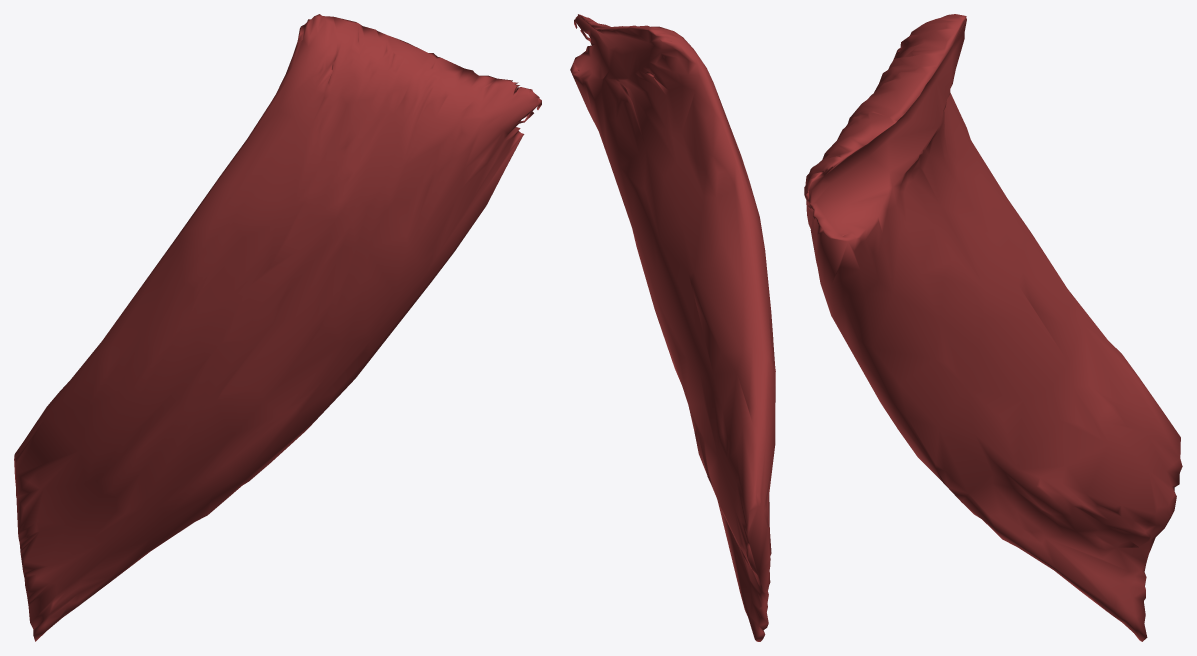
File: pectineus-muscle-r.glb
3 views of the same model, side by side, from view 1: azimuth 30°, elevation 25°; view 2: azimuth 150°, elevation 25°; view 3: azimuth 270°, elevation 25° (orthographic). The views are drawn at different scales.
Visible parts, largest first — view 1: Pectineus muscle.r; view 2: Pectineus muscle.r; view 3: Pectineus muscle.r.
Part boxes in pixels (x1=…): Pectineus muscle.r: x1=14, y1=14, x2=541, y2=641; Pectineus muscle.r: x1=570, y1=14, x2=775, y2=641; Pectineus muscle.r: x1=804, y1=14, x2=1182, y2=641.
Size of the model in its own units: 0.0828 by 0.1312 by 0.0606.
